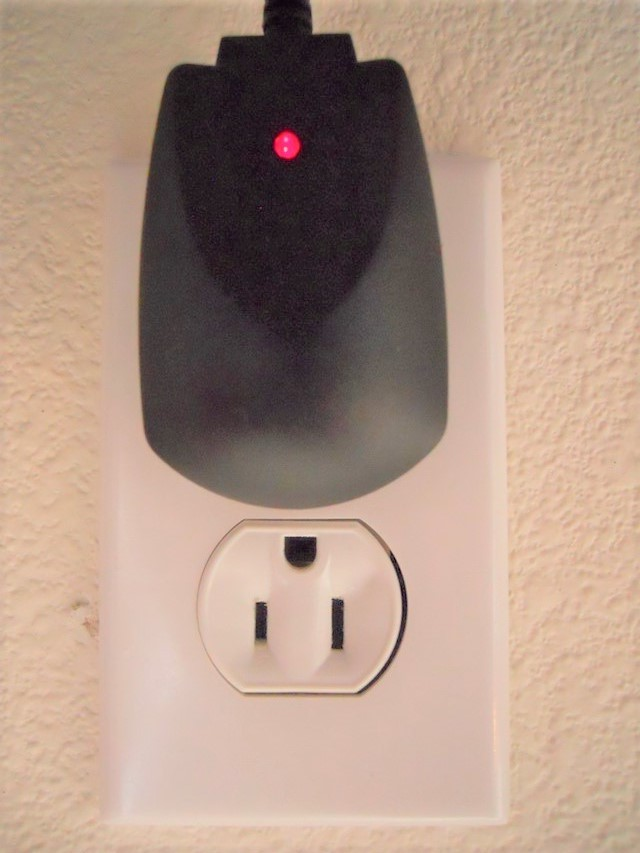outlet: (233, 528, 364, 661)
